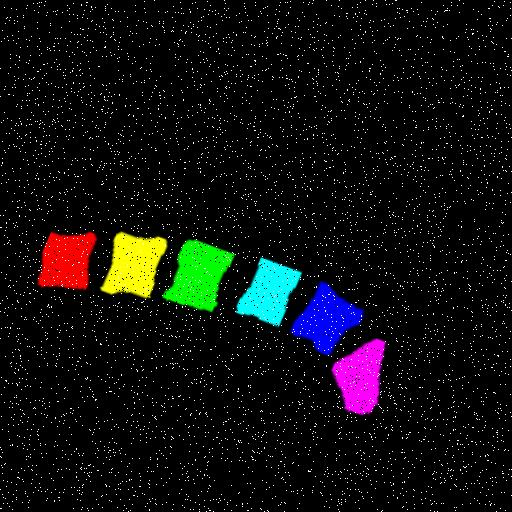L1: (43, 234, 96, 291)
L2: (104, 233, 169, 299)
L3: (166, 241, 237, 313)
L4: (238, 260, 303, 328)
L5: (294, 284, 366, 358)
S1: (335, 342, 389, 418)
